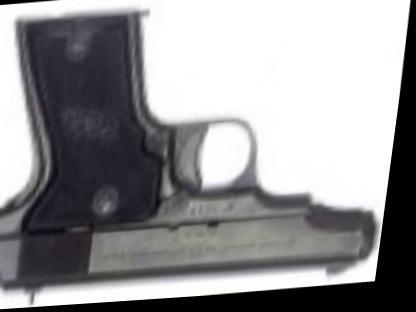pistol: (0, 0, 414, 310)
